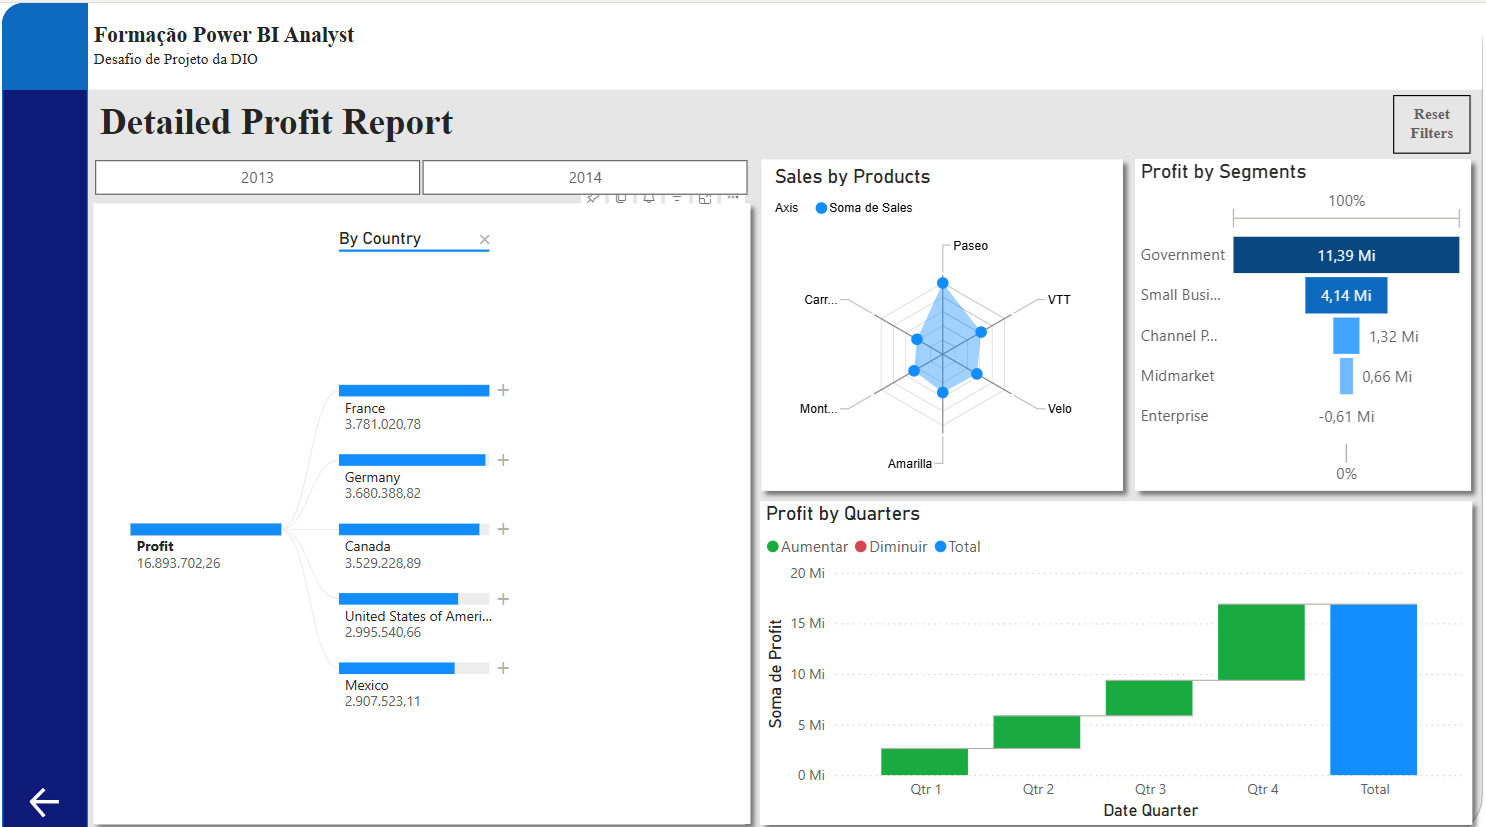

Layout of this report page (visuals, bound fields, positions):
{"tool":"powerbi","page":{"name":"Page 2","canvas":[1280,720],"ordinal":1},"visuals":[{"type":"group","id":"g1","title":"Layout","box":[0,0,1280,720],"z":0},{"type":"shape","title":"Fundo","box":[0,0,1280,720],"z":0,"group":"g1"},{"type":"shape","title":"Borda lat esq","box":[0,0,74.3,720],"z":1000,"group":"g1"},{"type":"actionButton","box":[1202.4,79.5,67.1,50.8],"z":1000},{"type":"shape","box":[647.6,421.6,632.2,297.3],"z":1000,"group":"g2"},{"type":"shape","title":"Borda branca","box":[74.3,0,1205.4,75.2],"z":2000,"group":"g1"},{"type":"group","id":"g2","title":"Inf Shapes","box":[70,126.3,1209.9,592.6],"z":2000},{"type":"shape","box":[70,164.6,585.7,554.3],"z":2000,"group":"g2"},{"type":"shape","title":"Borda sup esq","box":[0,0,74.3,75.2],"z":3000,"group":"g1"},{"type":"textbox","title":"Sales Report","box":[79.7,79.7,326.9,55.5],"z":3000},{"type":"shape","box":[647.5,126.7,330.4,304.5],"z":3000,"group":"g2"},{"type":"textbox","title":"Title","box":[74,12,502,51],"z":4000,"group":"g1"},{"type":"shape","box":[970.8,126.3,308.1,304.5],"z":4000,"group":"g2"},{"type":"decompositionTreeVisual","fields":{"Analyze":["Sum(financials.Profit)"],"ExplainBy":["financials.Country","financials.Year"]},"box":[81.5,178.2,561.5,531.9],"z":4000},{"type":"actionButton","box":[19.5,670.9,35,40.1],"z":4500,"group":"g1"},{"type":"RadarChart1446119667547","title":"Sales by Products","fields":{"Category":["financials.Product"],"Y":["Sum(financials. Sales)"]},"box":[662.7,139.4,300,282.1],"z":5000},{"type":"funnel","title":"Profit by Segments","fields":{"Category":["financials.Segment"],"Y":["Sum(financials.Profit)"]},"box":[979.2,135.1,290.3,286.5],"z":6000},{"type":"waterfallChart","title":"Profit by Quarters","fields":{"Category":["financials.Date.Variation.Date Hierarchy.Quarter"],"Y":["Sum(financials.Profit)"]},"box":[655.5,430.7,614.3,280.3],"z":7000},{"type":"slicer","fields":{"Values":["financials.Date.Variation.Date Hierarchy.Year"]},"box":[54.6,129,614.3,43.9],"z":8000}]}

Visuals, with their boxes in screenshot pixels (x1, y1, x2, y2), scaled from the page's 1280x720 canvas onto the 1486x827 screenshot:
"Layout" group: (0,0,1485,826)
"Fundo" shape: (0,0,1485,826)
"Borda lat esq" shape: (0,0,86,826)
actionButton: (1396,91,1474,150)
shape: (752,484,1485,826)
"Borda branca" shape: (86,0,1485,86)
"Inf Shapes" group: (81,145,1485,826)
shape: (81,189,761,826)
"Borda sup esq" shape: (0,0,86,86)
"Sales Report" textbox: (93,92,472,155)
shape: (752,146,1135,495)
"Title" textbox: (86,14,669,72)
shape: (1127,145,1485,495)
decompositionTreeVisual - Sum(financials.Profit) x financials.Country: (95,205,746,816)
actionButton: (23,771,63,817)
"Sales by Products" RadarChart1446119667547: (769,160,1118,484)
"Profit by Segments" funnel: (1137,155,1474,484)
"Profit by Quarters" waterfallChart: (761,495,1474,817)
slicer - financials.Date.Variation.Date Hierarchy.Year: (63,148,777,199)
